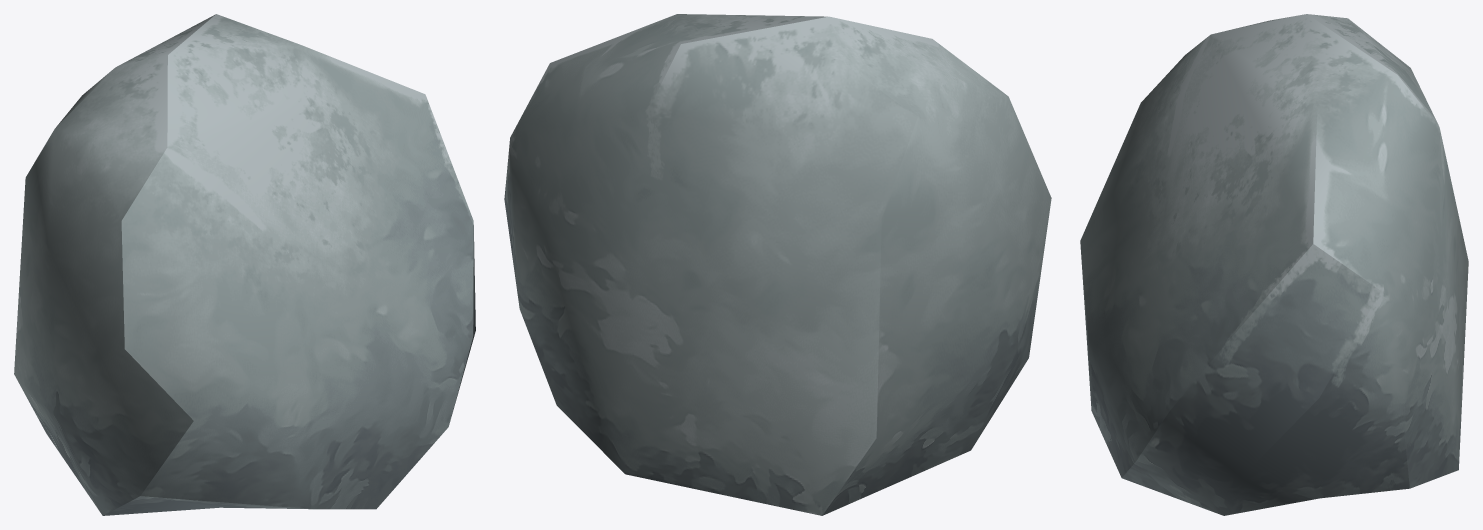
File: kamien_3.obj
The picture shows the model from 3 angles, left to right: view 1: azimuth 30°, elevation 25°; view 2: azimuth 150°, elevation 25°; view 3: azimuth 270°, elevation 25°; orthographic projection. The views are drawn at different scales.
Visible parts, largest first — view 1: rock.003; view 2: rock.003; view 3: rock.003.
Part boxes in pixels (x1=…): rock.003: x1=14, y1=14, x2=475, y2=515; rock.003: x1=504, y1=14, x2=1051, y2=515; rock.003: x1=1080, y1=14, x2=1468, y2=515.
Size of the model in its own units: 8.57 by 7.68 by 6.61.
1 material, 1 textured.
